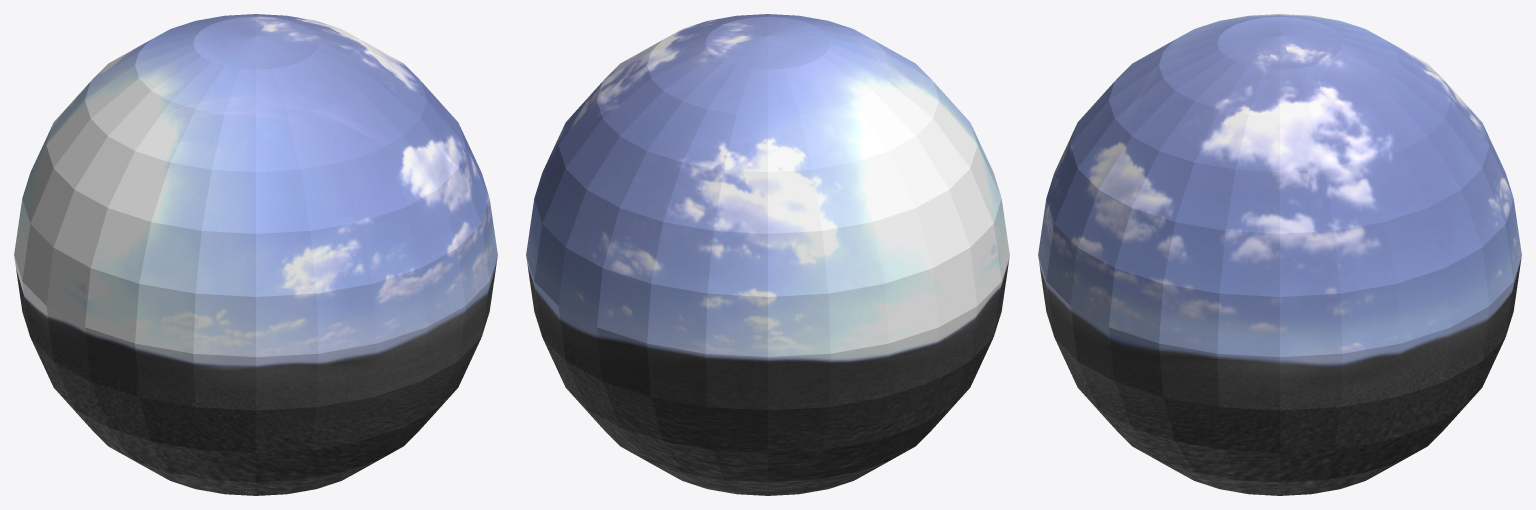
File: sky.obj
3 renders of one model, left to right at view 1: azimuth 30°, elevation 25°; view 2: azimuth 150°, elevation 25°; view 3: azimuth 270°, elevation 25°, orthographic.
Visible parts, largest first — view 1: sky; view 2: sky; view 3: sky.
Boxes of the visible parts, x1,y1,x2,y2 form: sky: [14, 14, 497, 495]; sky: [526, 14, 1009, 495]; sky: [1038, 14, 1521, 495].
Bounding box in the file's own units: 10000 × 10000 × 10000.
Materials: 1 (1 with a texture image).
